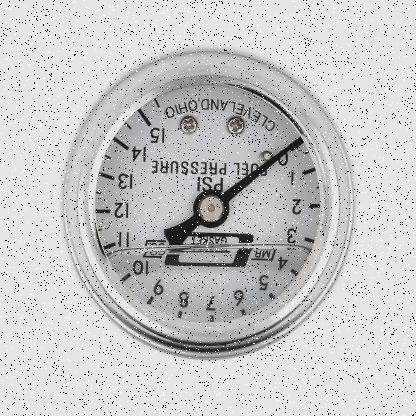needle: (222, 139, 299, 202)
